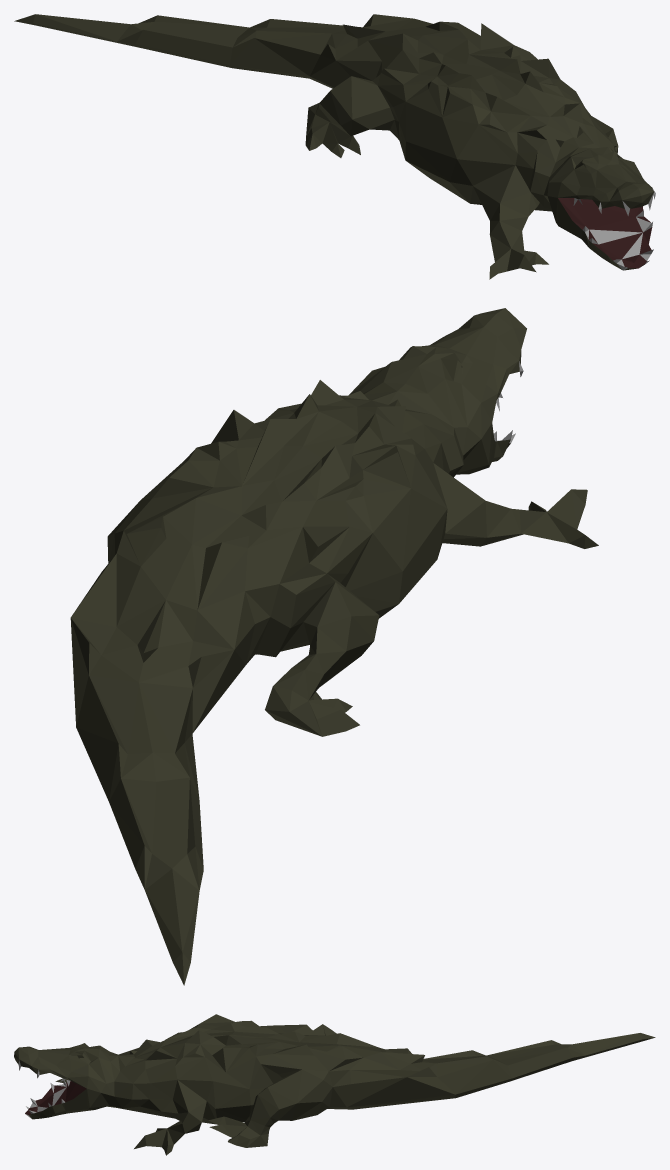
File: alligator.glb
The picture shows the model from 3 angles, top to bottom: view 1: azimuth 30°, elevation 25°; view 2: azimuth 150°, elevation 25°; view 3: azimuth 270°, elevation 25°; orthographic projection. The views are drawn at different scales.
Parts seen in each view (by area): view 1: gator_runB; view 2: gator_runB; view 3: gator_runB.
Part boxes in pixels (<box>): gator_runB: <box>14,14,655,279</box>; gator_runB: <box>70,308,598,985</box>; gator_runB: <box>14,1014,655,1155</box>.
Size of the model in its own units: 190 by 74.14 by 440.
